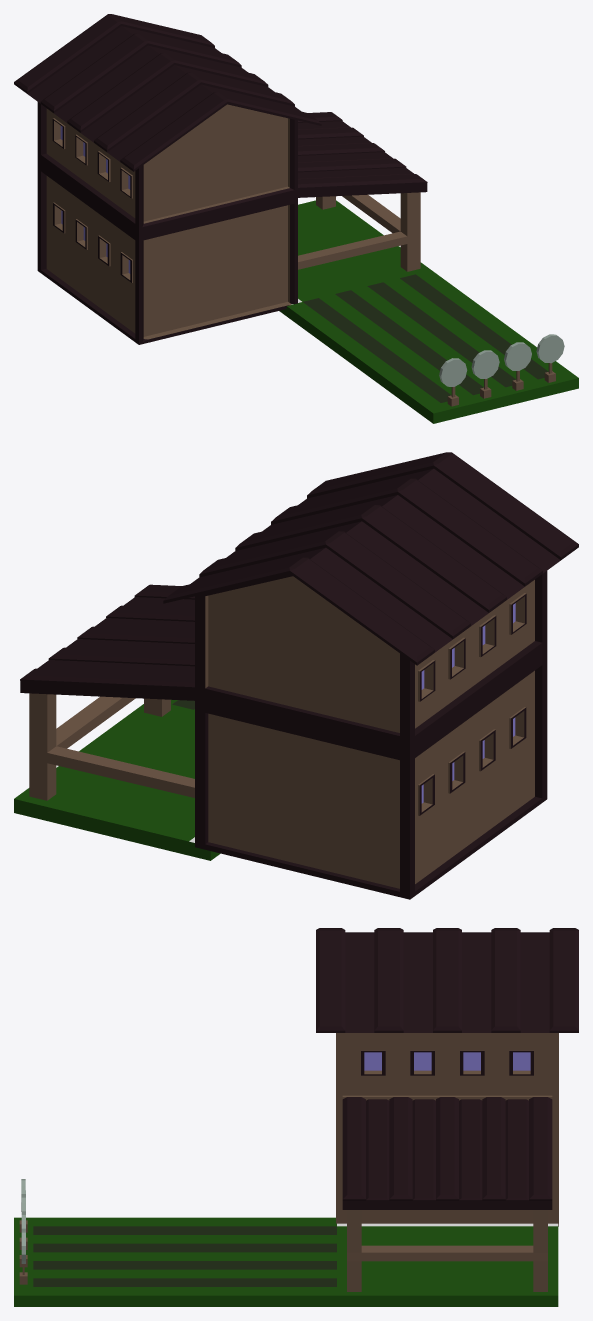
Rendered from shooting range.fbx.
3 renders of one model, top to bottom at view 1: azimuth 30°, elevation 25°; view 2: azimuth 150°, elevation 25°; view 3: azimuth 270°, elevation 25°, orthographic. The views are drawn at different scales.
Visible parts, largest first — view 1: shooting range; view 2: shooting range; view 3: shooting range.
Boxes of the visible parts, bbox=[...] form: shooting range: bbox=[14, 14, 578, 423]; shooting range: bbox=[14, 452, 578, 899]; shooting range: bbox=[14, 928, 578, 1306].
Size of the model in its own units: 1377 by 1022 by 1995.
